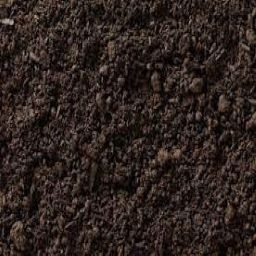dirt: (2, 2, 252, 251)
